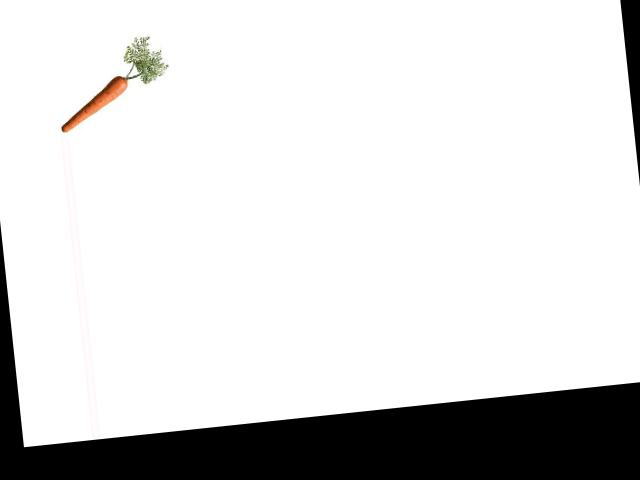carrot: (53, 72, 139, 135)
